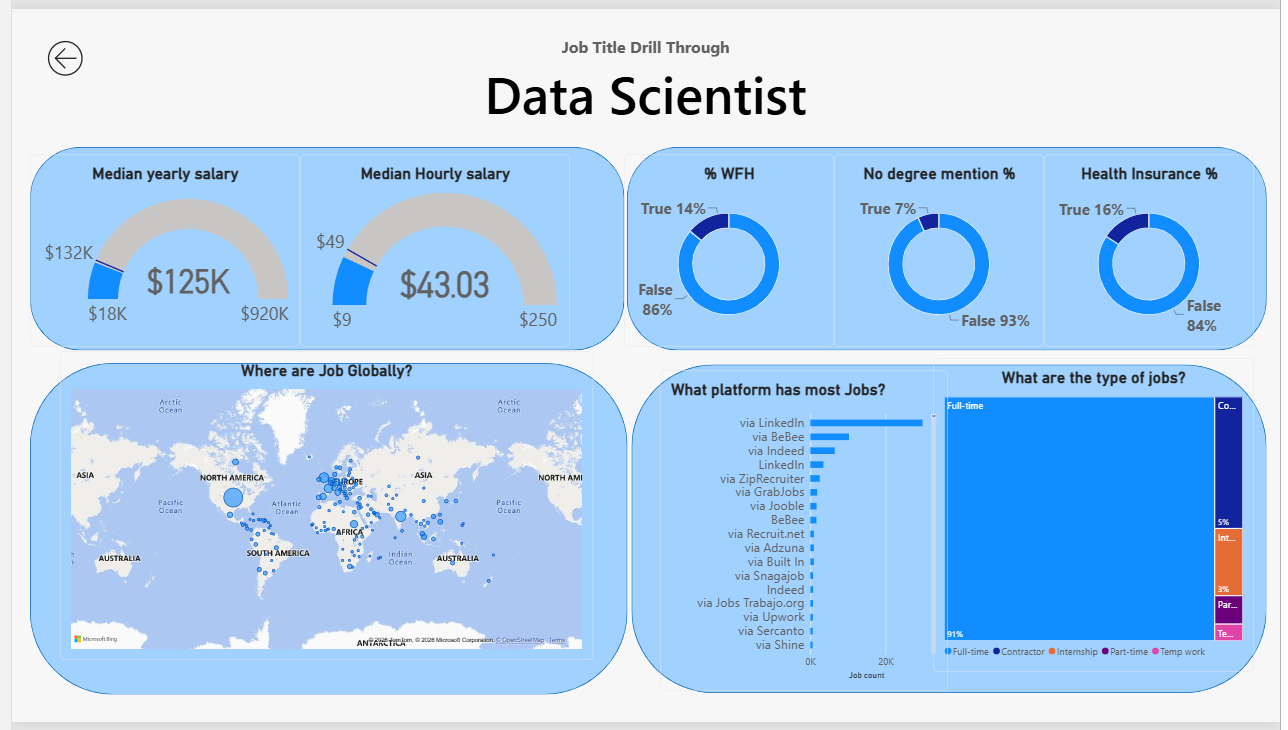

This screenshot's page, from the dashboard's own definition file:
{"tool":"powerbi","page":{"name":"Job Title Drill Through","canvas":[1920,1080],"ordinal":1},"visuals":[{"type":"group","id":"g1","title":"Group 1","box":[26.4,208.8,1873.4,829],"z":500},{"type":"cardVisual","fields":{"Data":["Min(job_postings_flat.job_title_short)1"]},"box":[502,0,915.3,220.3],"z":1000},{"type":"actionButton","box":[0,0,161.3,149.9],"z":2000},{"type":"gauge","title":"Median yearly salary","fields":{"MaxValue":["Max(job_postings_flat.salary_year_avg)2"],"MinValue":["Min(job_postings_flat.salary_year_avg)1"],"TargetValue":["Avg(job_postings_flat.salary_year_avg)3"],"Y":["Median(job_postings_flat.salary_year_avg)"]},"box":[27.3,220.3,408.8,290.7],"z":3000},{"type":"donutChart","title":"% WFH","fields":{"Category":["job_postings_flat.job_work_from_home"],"Y":["CountNonNull(job_postings_flat.job_work_from_home)"]},"box":[926.7,220.3,318,290.7],"z":4000},{"type":"gauge","title":"Median Hourly salary","fields":{"MaxValue":["Max(job_postings_flat.salary_hour_avg)1"],"MinValue":["Min(job_postings_flat.salary_hour_avg)"],"TargetValue":["Avg(job_postings_flat.salary_hour_avg)2"],"Y":["Median(job_postings_flat.salary_hour_avg)"]},"box":[436.1,220.3,408.8,290.7],"z":5000},{"type":"donutChart","title":"Health Insurance %","fields":{"Category":["job_postings_flat.job_health_insurance"],"Y":["CountNonNull(job_postings_flat.job_health_insurance)"]},"box":[1562.7,220.3,318,290.7],"z":6000},{"type":"donutChart","title":"No degree mention %","fields":{"Category":["job_postings_flat.job_no_degree_mention"],"Y":["CountNonNull(job_postings_flat.job_no_degree_mention)"]},"box":[1244.7,220.3,318,290.7],"z":7000},{"type":"map","title":"Where are Job Globally?","fields":{"Category":["job_postings_flat.job_country"],"Size":["CountNonNull(job_postings_flat.job_title_short)"]},"box":[73.4,518.7,807.1,467.9],"z":8000},{"type":"treemap","title":"What are the type of jobs?","fields":{"Group":["job_postings_flat.job_schedule_type"],"Values":["CountNonNull(job_postings_flat.job_schedule_type)"]},"box":[1395,529.2,486.1,474.7],"z":9000},{"type":"barChart","title":"What platform has most Jobs?","fields":{"Category":["job_postings_flat.job_via"],"Y":["CountNonNull(job_postings_flat.job_title_short)"]},"box":[980.5,547.1,435.8,485.5],"z":10000},{"type":"shape","box":[26.4,208.8,900,307.9],"z":12125,"group":"g1"},{"type":"shape","box":[931.1,208.8,968.7,307.9],"z":12250,"group":"g1"},{"type":"shape","box":[26.4,535.6,904.7,502.1],"z":12312,"group":"g1"},{"type":"shape","box":[937.9,537.6,961.6,497.4],"z":12375,"group":"g1"}]}

Visuals, with their boxes in screenshot pixels (x1, y1, x2, y2), scaled from the page's 1920x1080 canvas onto the 1288x730 screenshot:
"Group 1" group: crop(18, 141, 1274, 701)
cardVisual - Min(job_postings_flat.job_title_short)1: crop(337, 0, 951, 149)
actionButton: crop(0, 0, 108, 101)
"Median yearly salary" gauge: crop(18, 149, 293, 345)
"% WFH" donutChart: crop(622, 149, 835, 345)
"Median Hourly salary" gauge: crop(293, 149, 567, 345)
"Health Insurance %" donutChart: crop(1048, 149, 1262, 345)
"No degree mention %" donutChart: crop(835, 149, 1048, 345)
"Where are Job Globally?" map: crop(49, 351, 591, 667)
"What are the type of jobs?" treemap: crop(936, 358, 1262, 679)
"What platform has most Jobs?" barChart: crop(658, 370, 950, 698)
shape: crop(18, 141, 621, 349)
shape: crop(625, 141, 1274, 349)
shape: crop(18, 362, 625, 701)
shape: crop(629, 363, 1274, 700)
